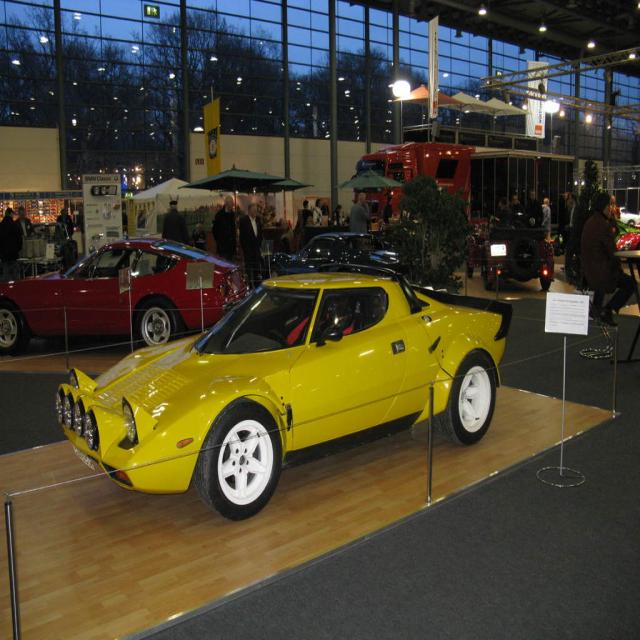car: (51, 262, 511, 516)
